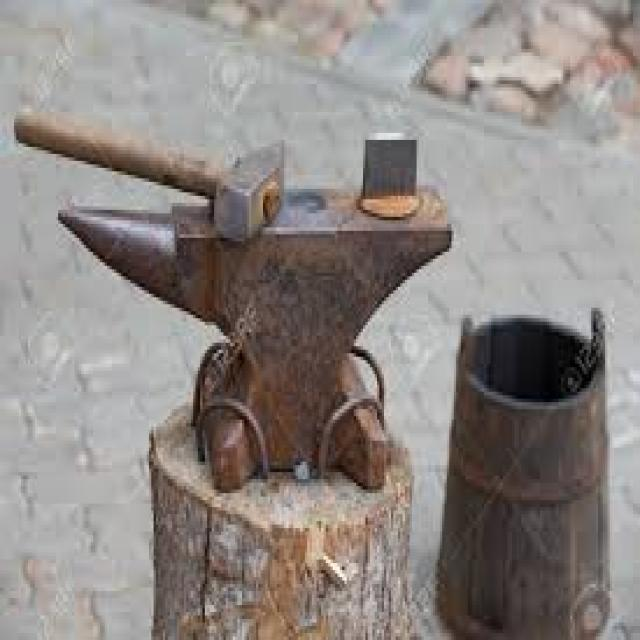hammer: (10, 106, 297, 246)
